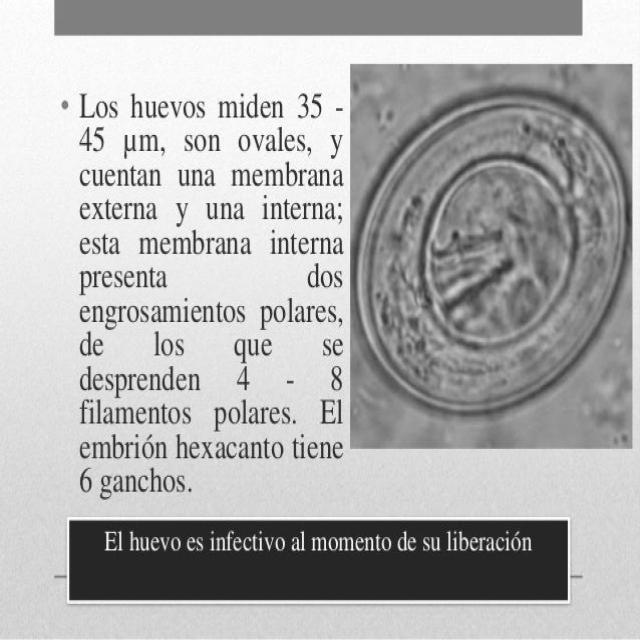Hymenolepis: (352, 80, 636, 432)
